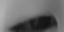LeftEyeFatigue: (4, 8, 61, 32)
